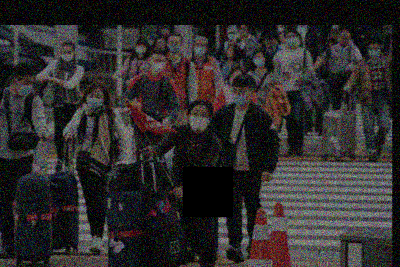mask_weared_incorrect: (266, 39, 276, 51)
with_mask: (189, 108, 210, 131), (231, 86, 249, 105), (17, 78, 35, 96), (86, 92, 103, 108), (150, 55, 166, 72), (167, 39, 182, 54), (193, 42, 207, 56), (228, 73, 242, 87), (61, 49, 74, 62), (134, 42, 147, 54), (286, 33, 298, 46), (368, 45, 380, 57), (252, 55, 265, 66), (227, 31, 237, 40), (297, 36, 302, 45)
without_mask: (339, 35, 351, 45), (239, 26, 249, 36), (225, 46, 234, 57), (156, 41, 166, 49), (279, 34, 287, 43)
